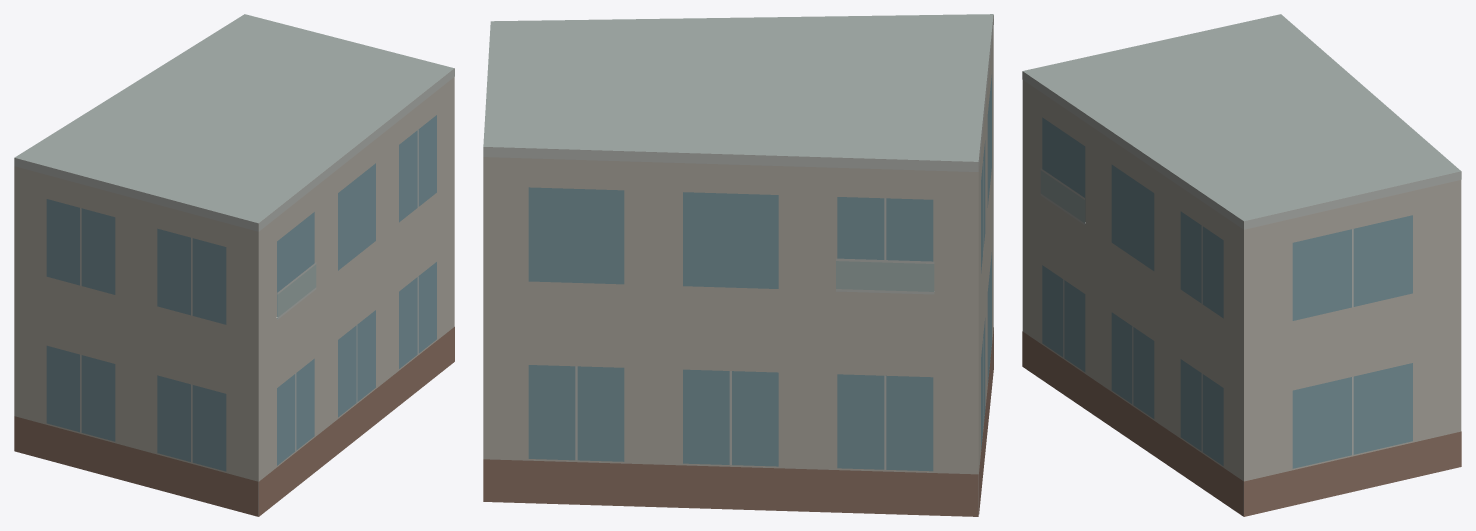
The model's file is survey-upis-32483563.glb.
3 renders of one model, left to right at view 1: azimuth 30°, elevation 25°; view 2: azimuth 150°, elevation 25°; view 3: azimuth 270°, elevation 25°, orthographic. The views are drawn at different scales.
Visible parts, largest first — view 1: survey-upis-32483563.tmp; view 2: survey-upis-32483563.tmp; view 3: survey-upis-32483563.tmp.
Part boxes in pixels (x1,y1,x2,y2): survey-upis-32483563.tmp: [14, 14, 454, 516]; survey-upis-32483563.tmp: [483, 14, 993, 516]; survey-upis-32483563.tmp: [1022, 14, 1461, 516].
Size of the model in its own units: 12.8 by 8.5 by 11.45.
